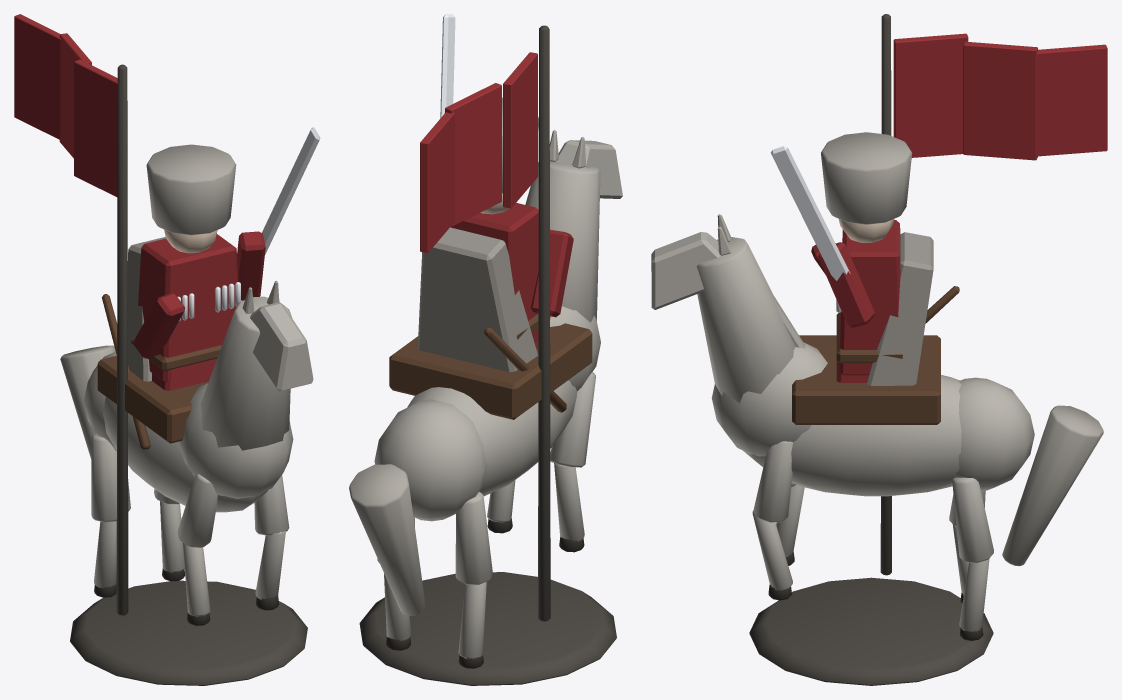
Rendered from Hero_Hadji_Murat.glb.
3 views of the same model, side by side, from view 1: azimuth 30°, elevation 25°; view 2: azimuth 150°, elevation 25°; view 3: azimuth 270°, elevation 25° (orthographic). The views are drawn at different scales.
Parts seen in each view (by area): view 1: Pedestal, HorseNeck, RiderTorso, RiderPapakha, BannerStaff, HorseChest, WavingBanner_0, WavingBanner_2, HorseBarrel, SaddleCloth, HorseHead, LegU_BL (+17 smaller); view 2: Pedestal, BurkaCape, HorseCroup, SaddleCloth, BannerStaff, HorseTail, HorseNeck, HorseBarrel, WavingBanner_1, WavingBanner_0, WavingBanner_2, RiderTorso (+11 smaller); view 3: Pedestal, HorseBarrel, HorseNeck, WavingBanner_1, WavingBanner_0, SaddleCloth, WavingBanner_2, RiderPapakha, HorseTail, HorseCroup, BurkaCape, HorseChest (+12 smaller).
Boxes of the visible parts, x1,y1,x2,y2 form: Pedestal: (70,580,307,685); HorseNeck: (200,296,291,450); RiderTorso: (138,234,238,381); RiderPapakha: (146,144,236,235); BannerStaff: (116,64,128,615); HorseChest: (178,383,293,498); WavingBanner_0: (74,59,117,196); WavingBanner_2: (14,14,60,140); HorseBarrel: (103,397,267,512); SaddleCloth: (97,355,208,443); HorseHead: (250,302,313,391); LegU_BL: (91,433,116,522); Pedestal: (359,572,616,685); BurkaCape: (417,227,537,372); HorseCroup: (374,399,487,521); SaddleCloth: (389,323,592,419); BannerStaff: (538,25,550,621); HorseTail: (349,464,425,615); HorseNeck: (525,161,600,322); HorseBarrel: (407,380,577,496); WavingBanner_1: (445,83,501,226); WavingBanner_0: (503,52,537,208); WavingBanner_2: (420,112,454,252); RiderTorso: (450,202,538,342); Pedestal: (749,577,993,685); HorseBarrel: (743,375,961,496); HorseNeck: (696,237,795,402); WavingBanner_1: (963,41,1037,160); WavingBanner_0: (893,33,968,157); SaddleCloth: (792,335,940,424); WavingBanner_2: (1036,44,1107,156); RiderPapakha: (821,132,912,224); HorseTail: (1002,405,1103,566); HorseCroup: (951,377,1034,490); BurkaCape: (867,232,933,385); HorseChest: (711,342,827,456).
Size of the model in its own units: 0.9845 by 2.62 by 1.84.
